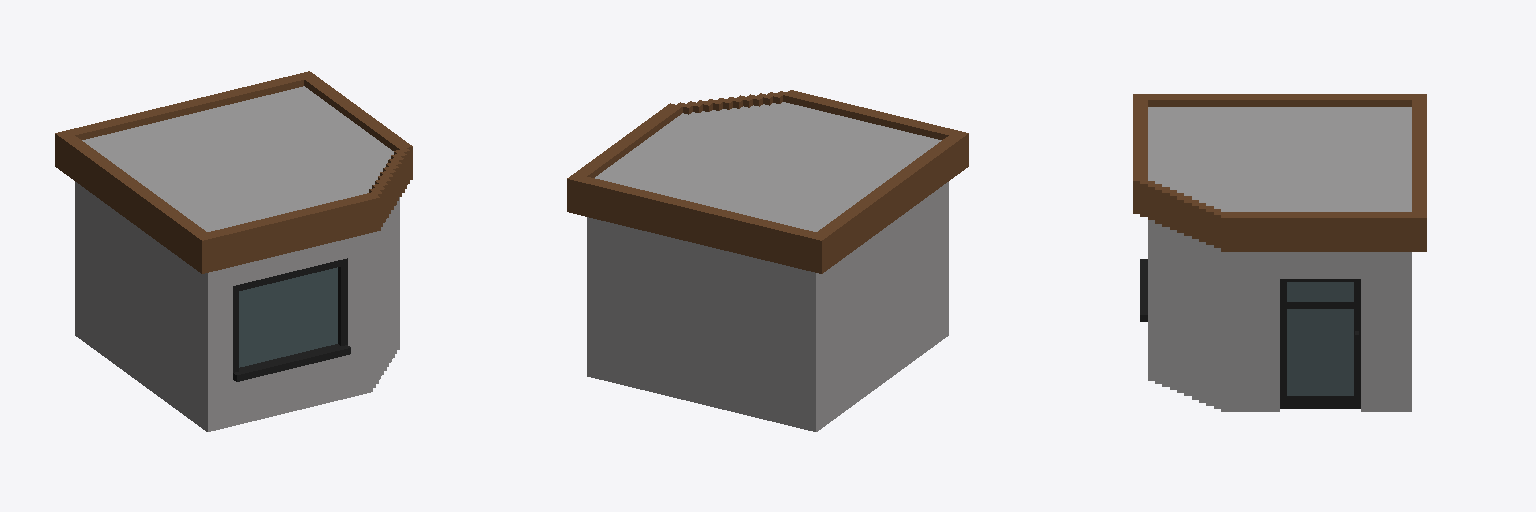
3 views of the same model, side by side, from view 1: azimuth 30°, elevation 25°; view 2: azimuth 150°, elevation 25°; view 3: azimuth 270°, elevation 25° (orthographic).
Parts seen in each view (by area): view 1: object 1; view 2: object 1; view 3: object 1.
Boxes of the visible parts, x1=… form: object 1: x1=55, y1=71, x2=412, y2=431; object 1: x1=567, y1=90, x2=968, y2=431; object 1: x1=1133, y1=94, x2=1426, y2=411.
Size of the model in its own units: 16 by 12 by 16.
Materials: 1 (1 with a texture image).